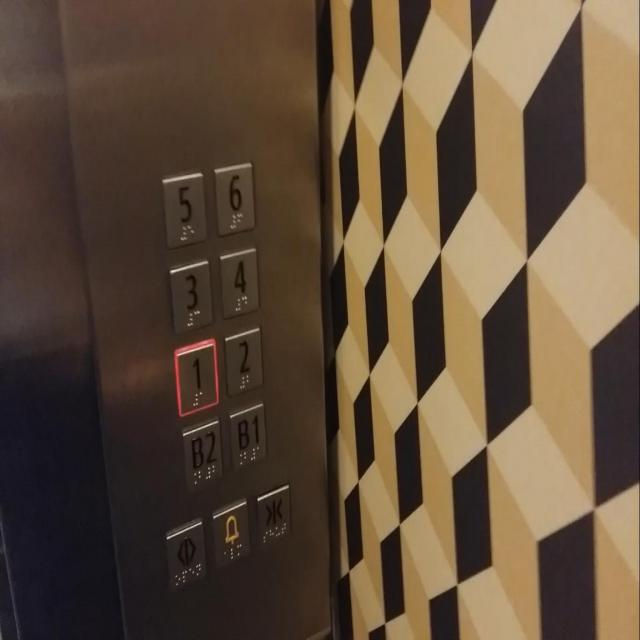1: (173, 340, 219, 418)
2: (220, 328, 262, 398)
3: (168, 262, 213, 334)
4: (217, 248, 259, 315)
5: (161, 172, 208, 248)
6: (213, 162, 255, 235)
B1: (229, 402, 267, 470)
B2: (180, 419, 223, 494)
alarm: (212, 496, 250, 573)
close: (256, 482, 290, 558)
open: (166, 517, 206, 600)
